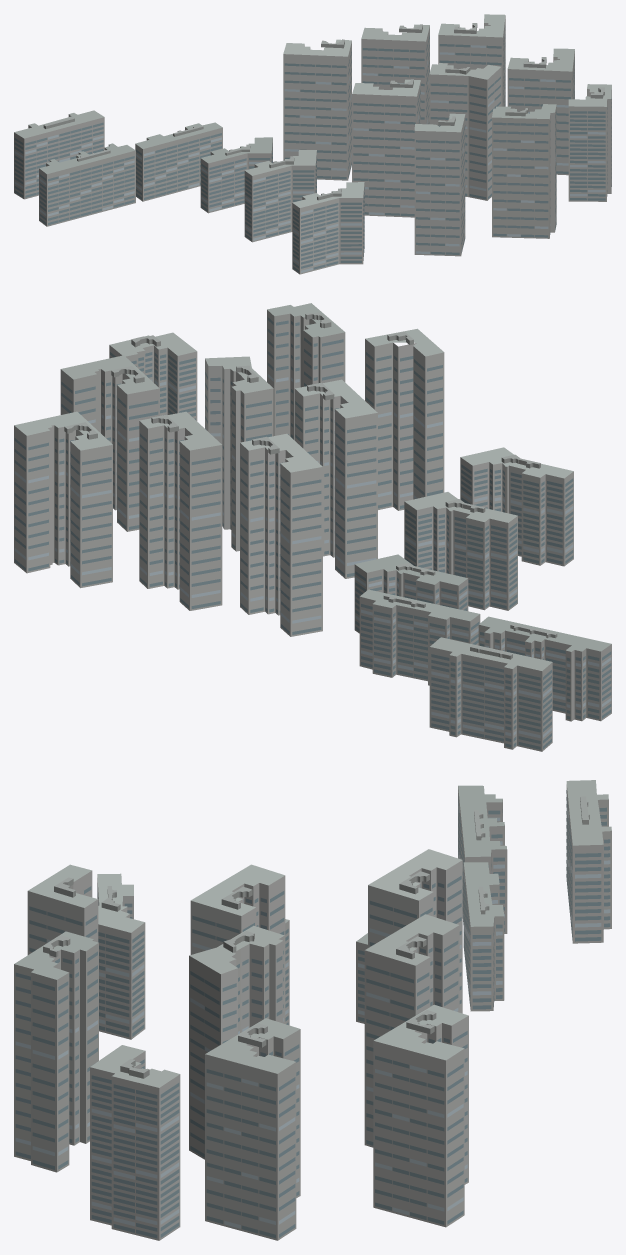
The model's file is apt-a10024473.glb.
3 renders of one model, top to bottom at view 1: azimuth 30°, elevation 25°; view 2: azimuth 150°, elevation 25°; view 3: azimuth 270°, elevation 25°, orthographic. The views are drawn at different scales.
Parts seen in each view (by area): view 1: apt-a10024473; view 2: apt-a10024473; view 3: apt-a10024473.
Part boxes in pixels (bbox=[...]): apt-a10024473: bbox=[14, 14, 611, 274]; apt-a10024473: bbox=[14, 303, 611, 751]; apt-a10024473: bbox=[14, 780, 611, 1240].
Size of the model in its own units: 341 by 88 by 232.
